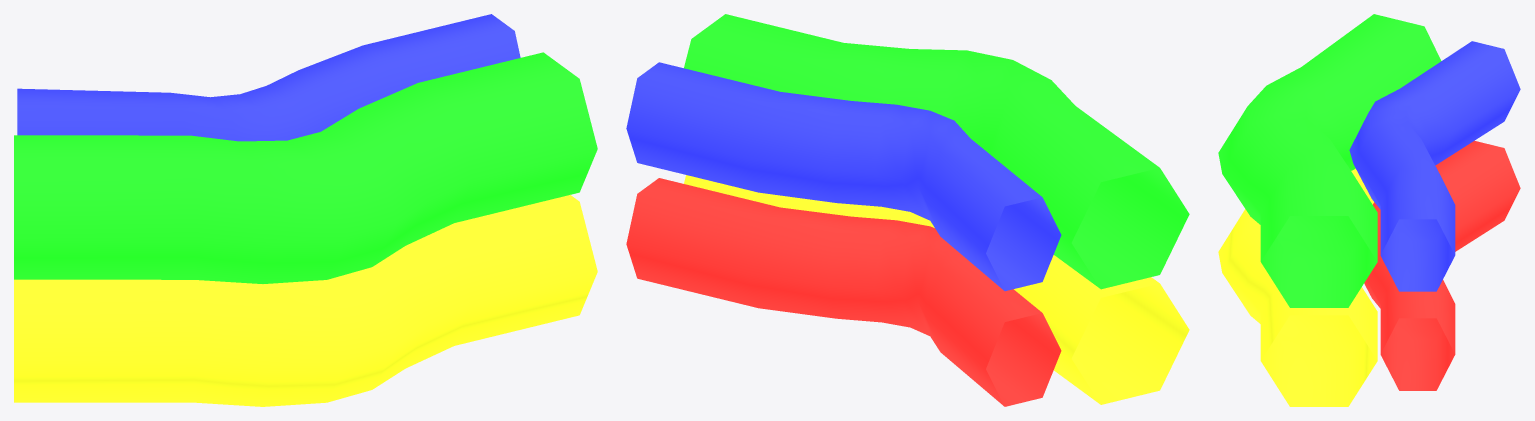
File: Distorcao.fbx
The picture shows the model from 3 angles, left to right: view 1: azimuth 30°, elevation 25°; view 2: azimuth 150°, elevation 25°; view 3: azimuth 270°, elevation 25°; orthographic projection. The views are drawn at different scales.
Parts seen in each view (by area): view 1: Cube; view 2: Cube; view 3: Cube.
Boxes of the visible parts, x1=… form: Cube: x1=14, y1=14, x2=597, y2=406; Cube: x1=626, y1=14, x2=1189, y2=406; Cube: x1=1218, y1=14, x2=1520, y2=406.
Bounding box in the file's own units: 400 × 170 × 244.
